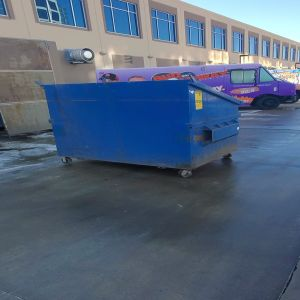Dumpster: (44, 84, 244, 179)
